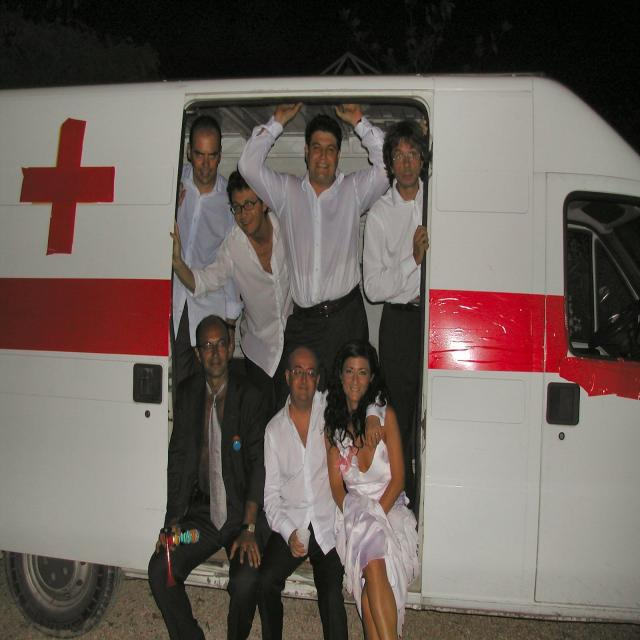emergency-vehicle: (1, 85, 640, 607)
